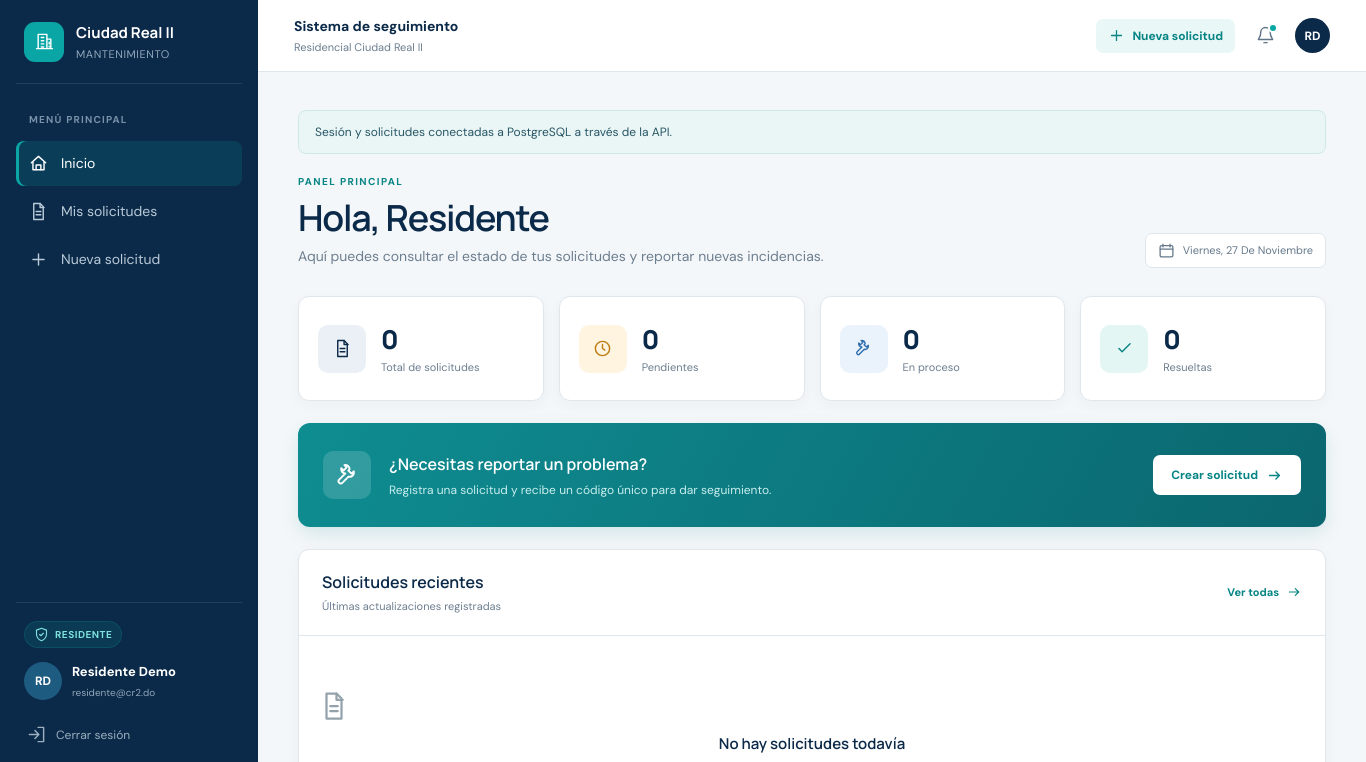
Scenario: una respuesta de restauración antigua no recupera una sesión ya cerrada
What coordinates should you click on to do the following:
click the button "Cerrar sesión"
I would click on:
 (129, 730)
Its box is [20,715,238,744].
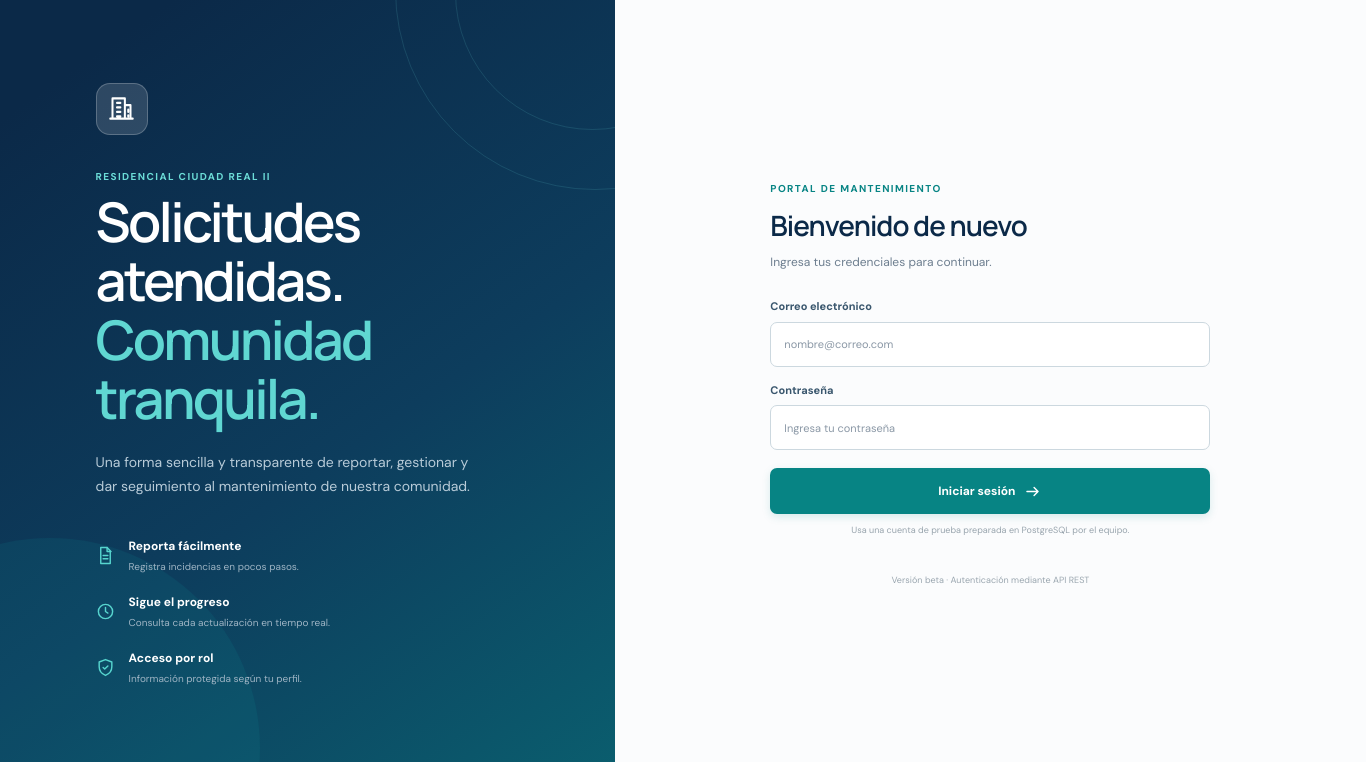
Result: the button "Iniciar sesión" is shown at [770,468,1210,514]
